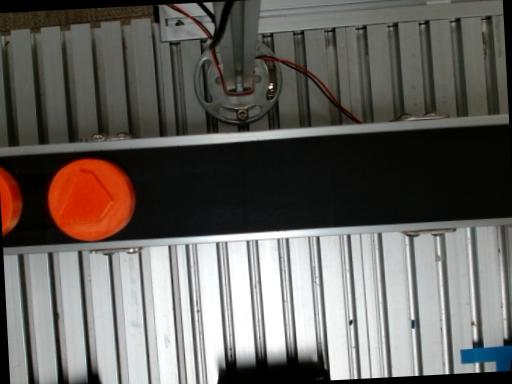Not_Square: (56, 173, 112, 224)
Orange_Waper: (47, 159, 135, 241), (0, 168, 22, 236)
